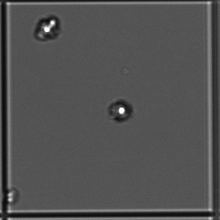Living Cell: (32, 13, 64, 44), (108, 97, 134, 124)
